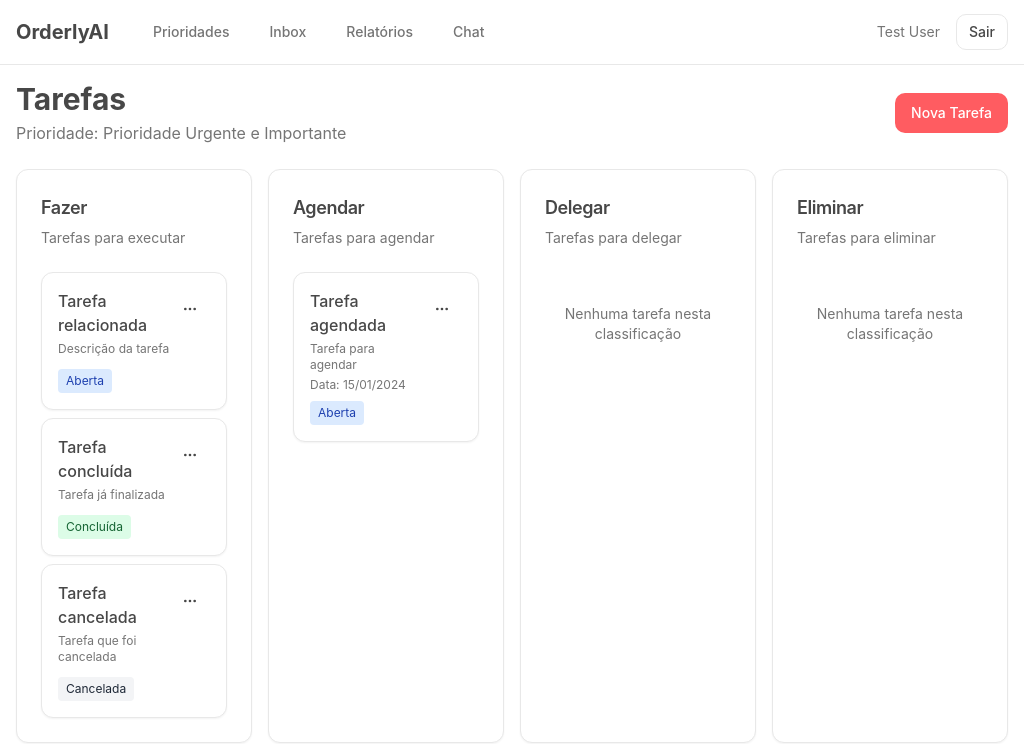
it: TasksPage › Criação de Tarefa › deve criar tarefa e adicionar à classificação correta
This screenshot has width=1024, height=744.
Expected: the heading "Tarefas" is shown, [16, 81, 126, 117]
Click the button "Nova Tarefa" at (952, 113), box [895, 93, 1008, 133]
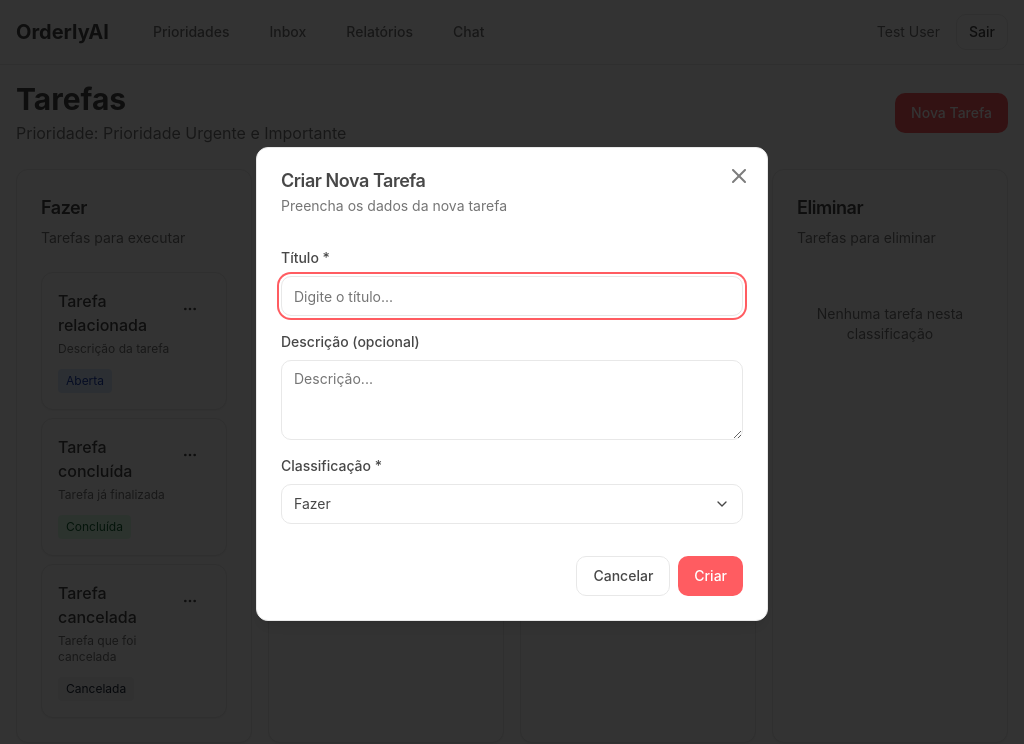
Expected: the dialog "Criar Nova Tarefa" is shown, [256, 147, 768, 621]
Type "Nova Tarefa de Teste" into the field with placeholder "Digite o título..." at (512, 296), box [281, 276, 743, 316]
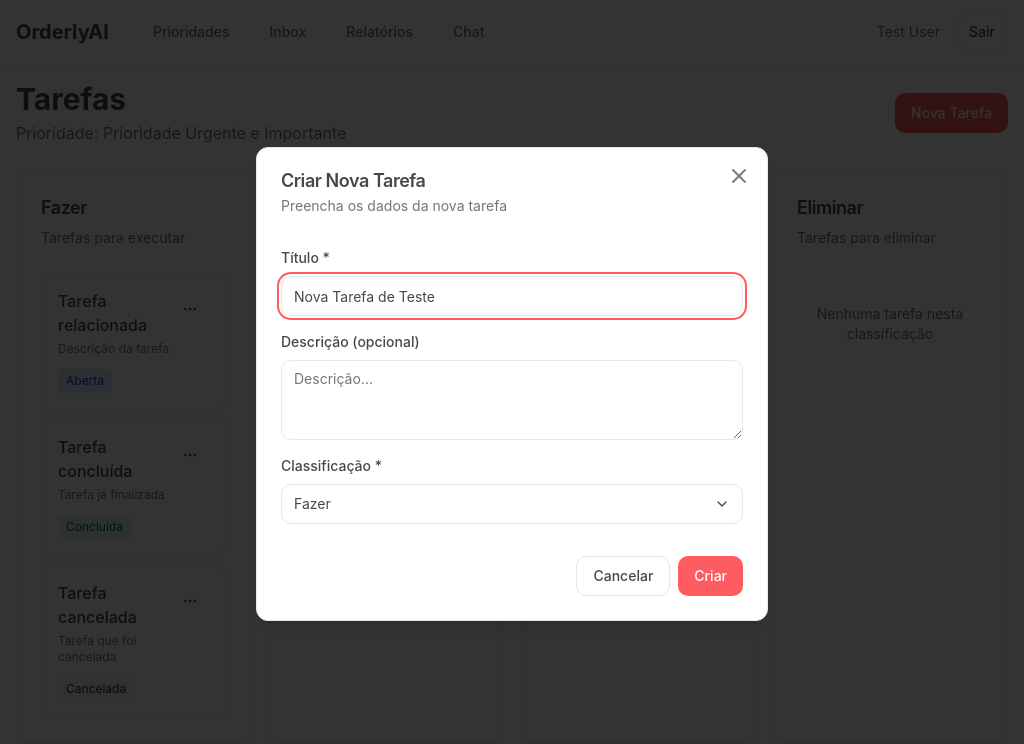
Click the button "Criar" at (711, 576), box [678, 556, 743, 596]
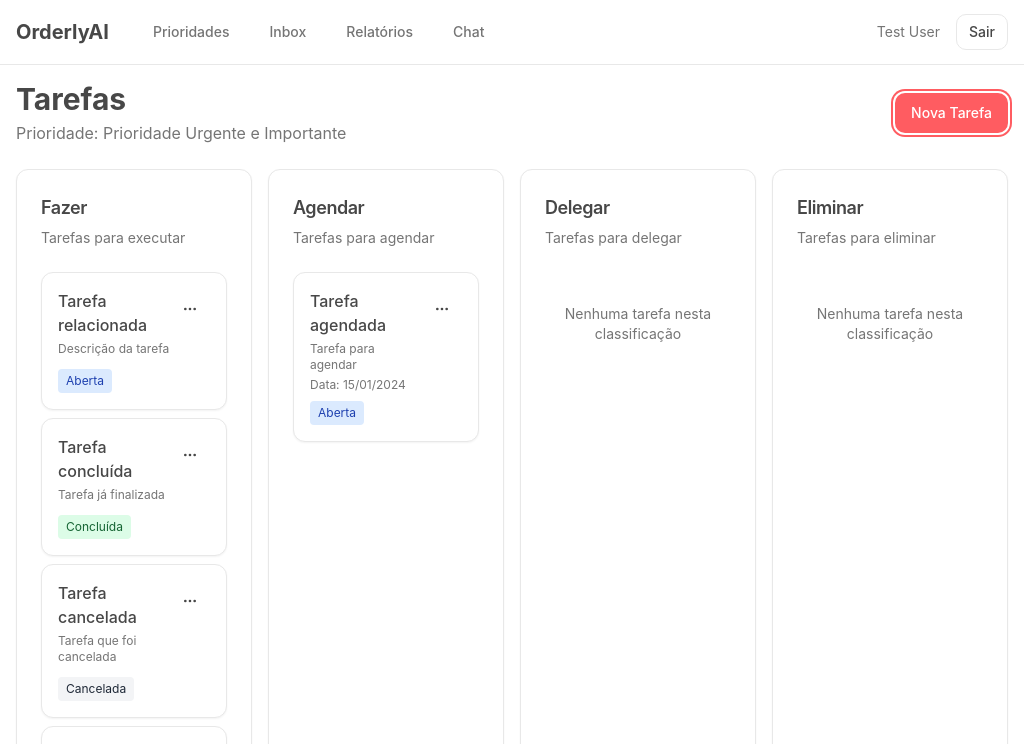
Expected: the heading "Criar Nova Tarefa" is gone
